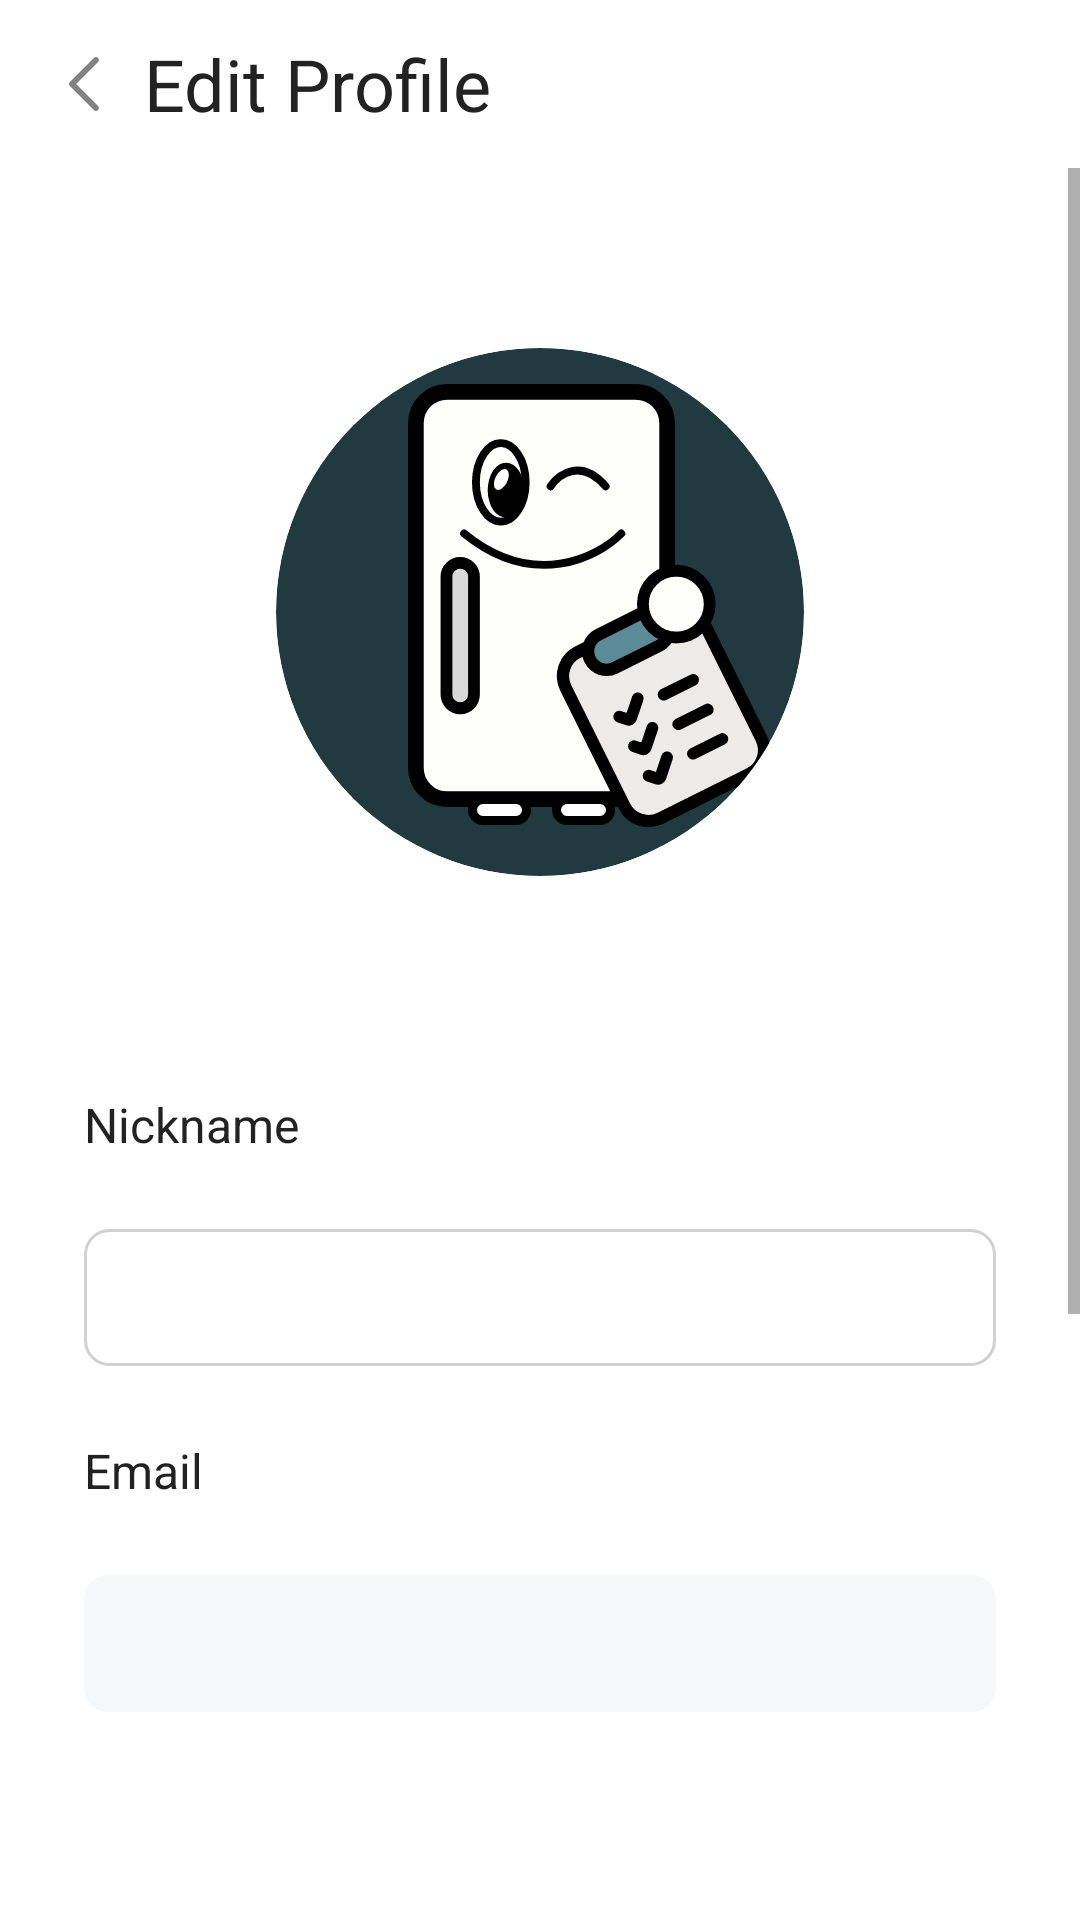

Screen size 1080*1920. Icon name, then its center in pixels as point (x, y):
home pantry back: point (84, 84)
